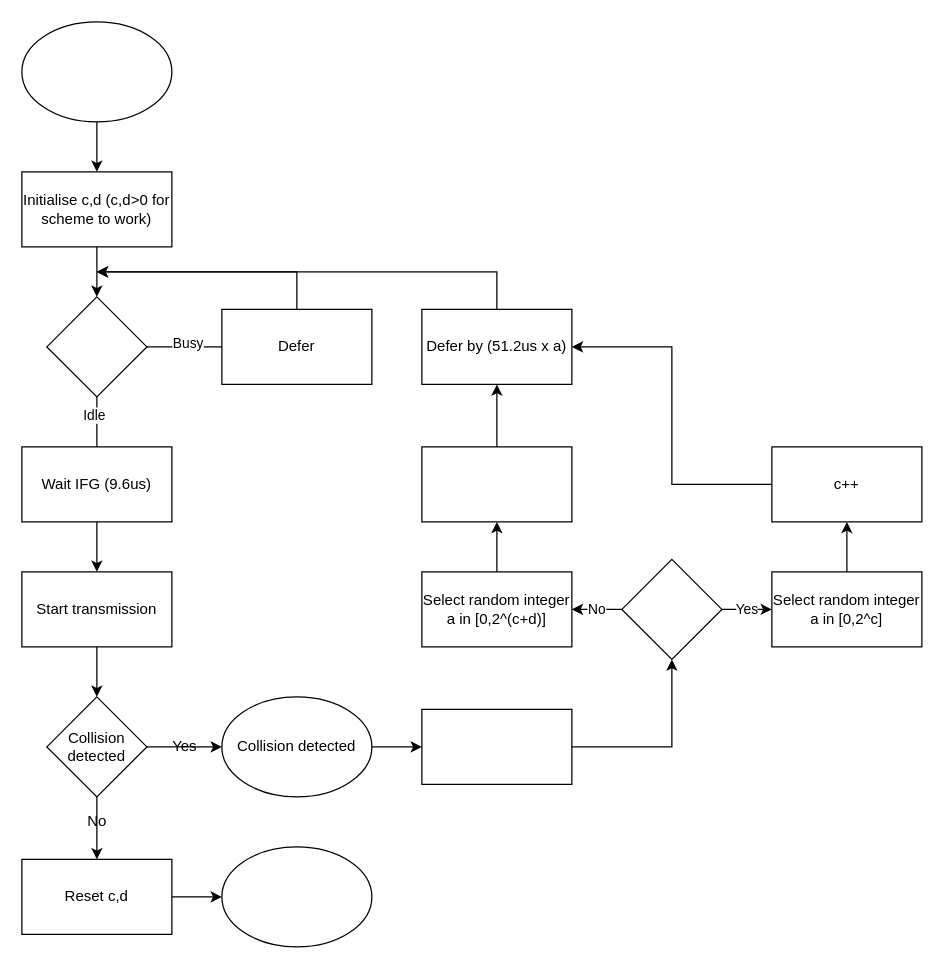
Some shapes in this 944 by 969 pixel diagram are drawn without their labels. The box of each missing label's shape, as (x1, y1, x2, y2) in pixels:
c++, d++: (421, 446, 572, 522)
Carrier Sense: (46, 296, 147, 397)
End transmission: (221, 846, 372, 947)
Frame ready for transmission: (21, 21, 172, 122)
Is Malicious user?: (621, 558, 722, 659)
Send jamming signal: (421, 708, 572, 784)
